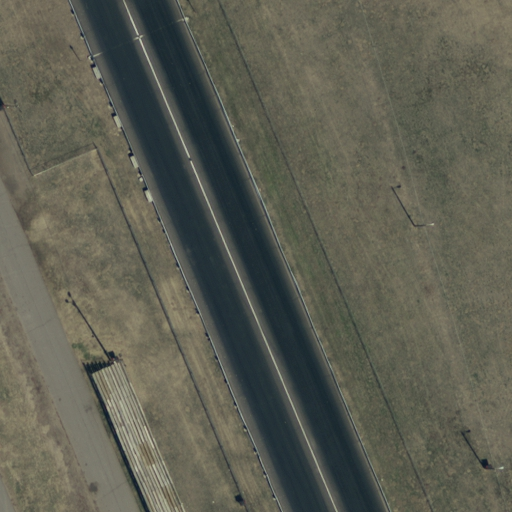DT: (474, 452, 509, 484), (95, 346, 131, 370), (406, 214, 440, 236)
